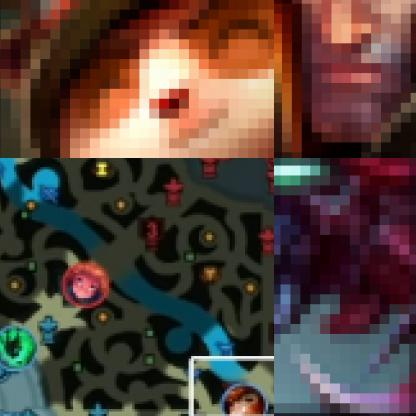Choundefinedgath: (274, 158, 415, 415)
Jarvan IV: (274, 0, 415, 157)
Miss Fortune: (221, 384, 270, 415)
Teemo: (0, 0, 273, 157)
Thresh: (0, 325, 39, 372)
Zoe: (62, 261, 112, 308)
